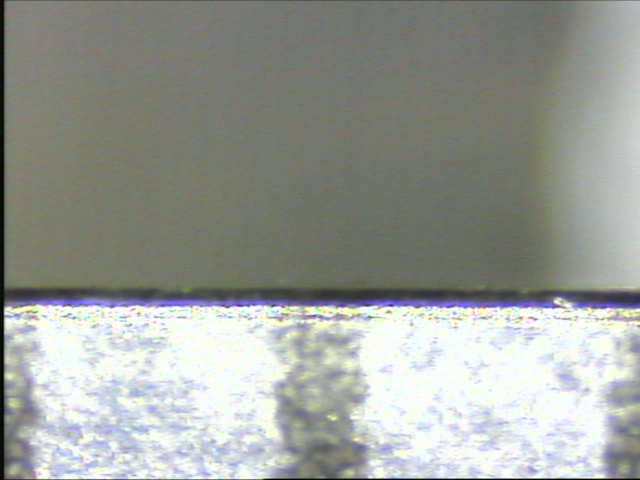line: (271, 309, 374, 478)
